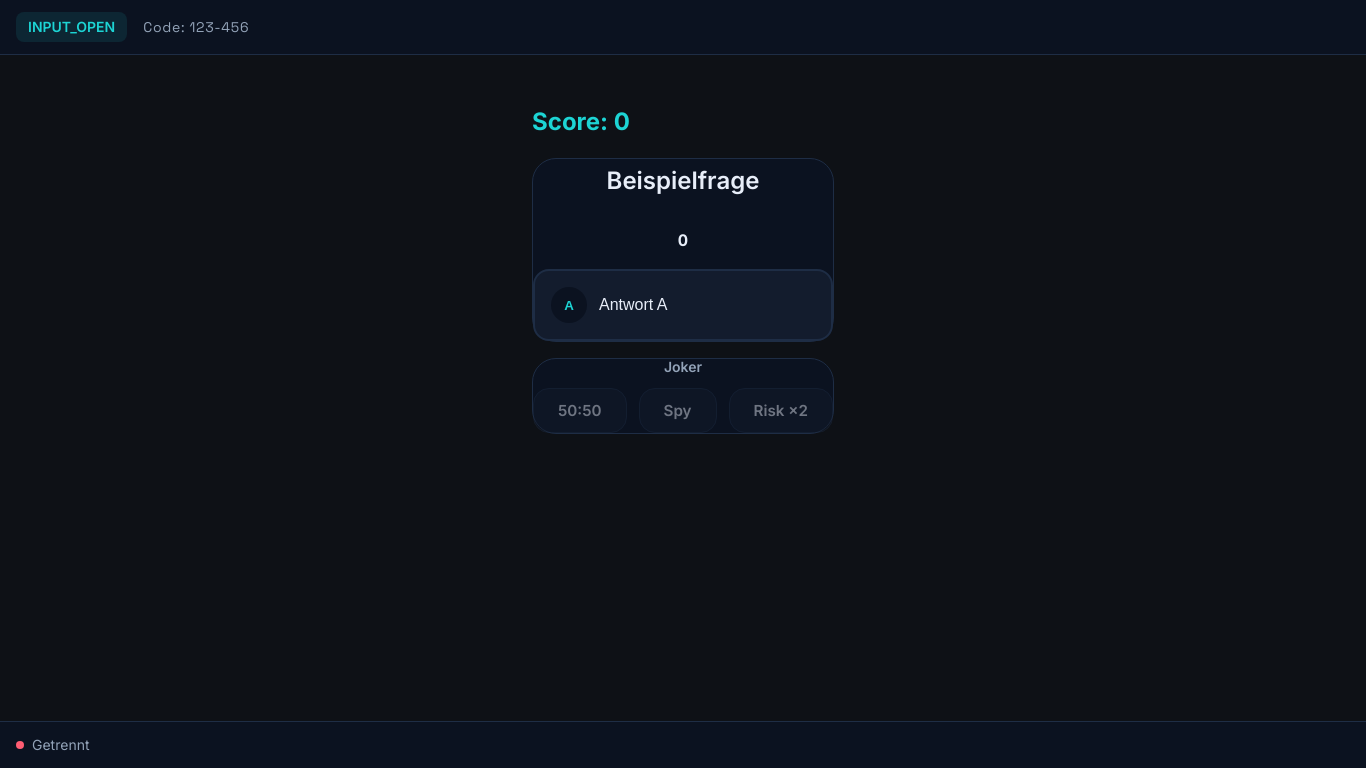
Test: REVIEW Player: an old rejected answer ACK cannot unlock the new round submission
Click the button "A Antwort A": (569, 305) left=533, top=269, right=833, bottom=341
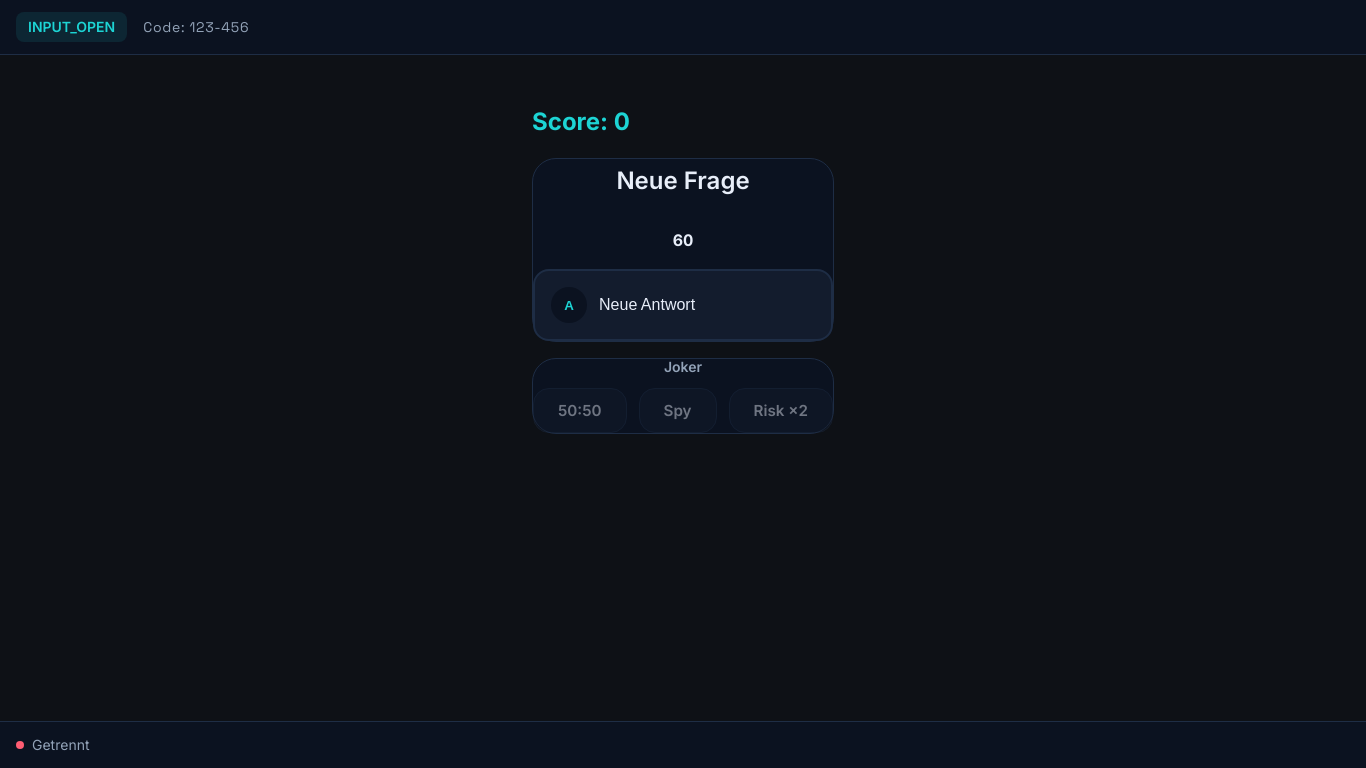
Click the button "A Neue Antwort": (683, 305) left=533, top=269, right=833, bottom=341
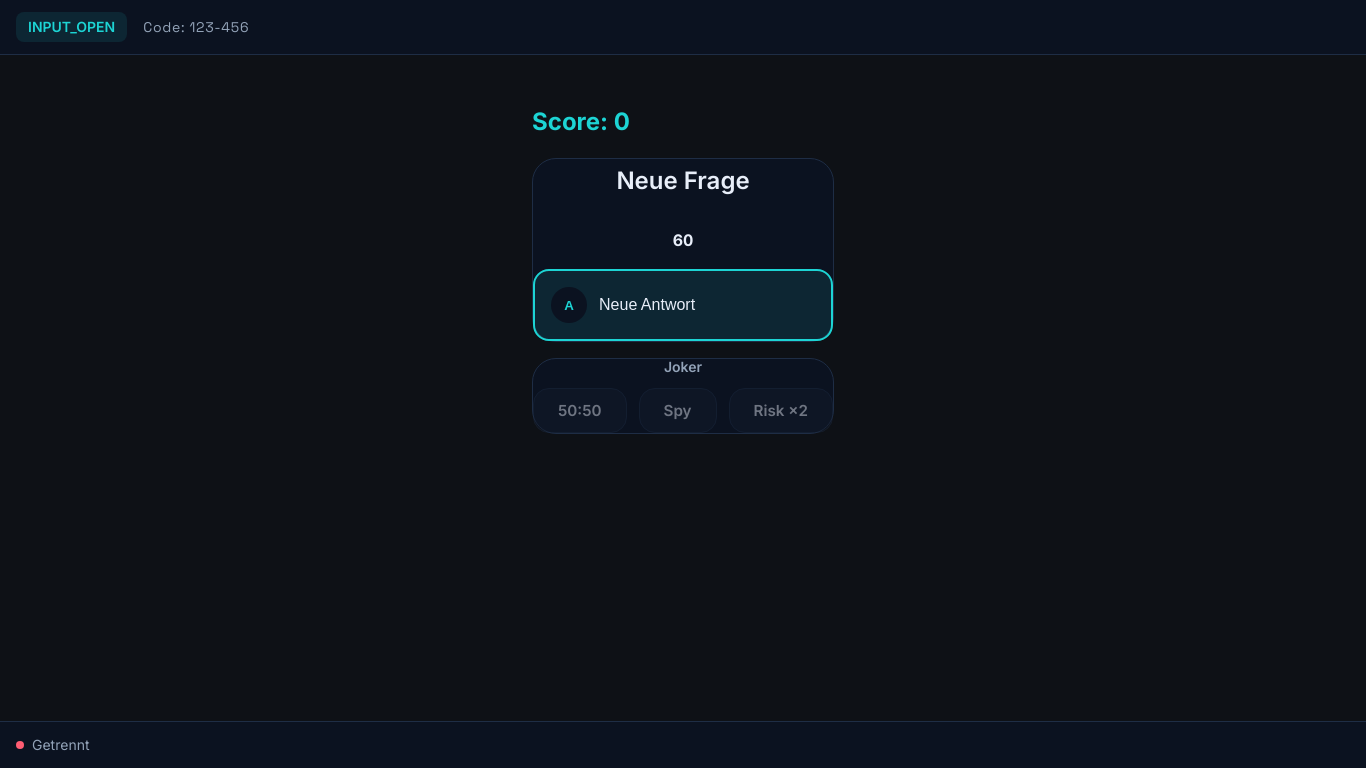
Check: the button "A Neue Antwort" is disabled, box left=533, top=269, right=833, bottom=341
